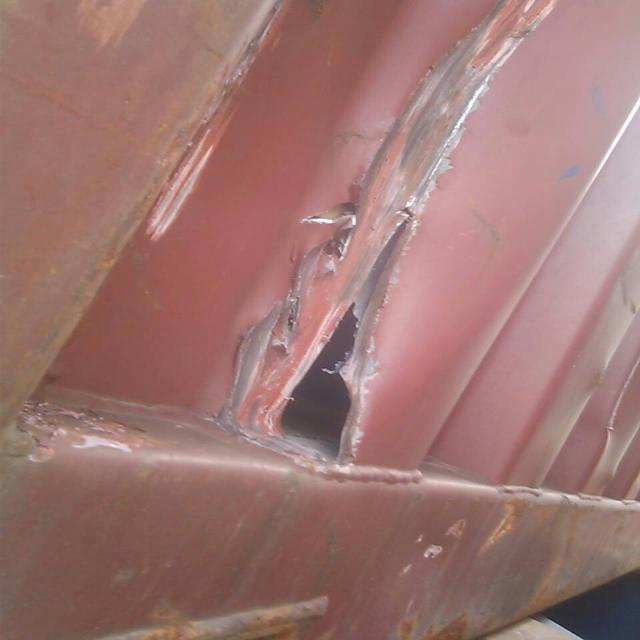hole: (228, 203, 431, 478)
